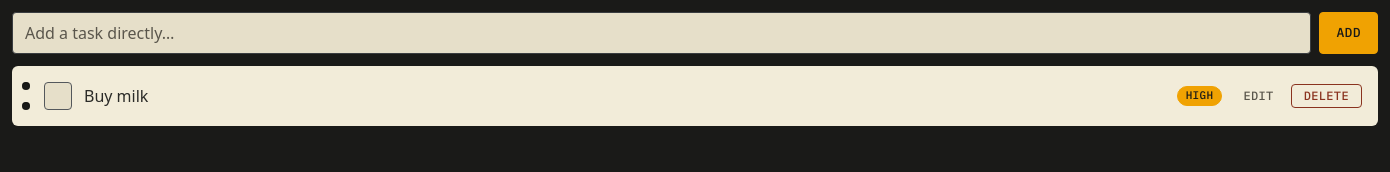
TaskList › shows a visible error when deletion fails
Expected: the text "Buy milk" is shown, top-left (84, 85), bottom-right (148, 107)
Click the button "Delete": {"x": 1326, "y": 96} top-left (1291, 84), bottom-right (1362, 108)
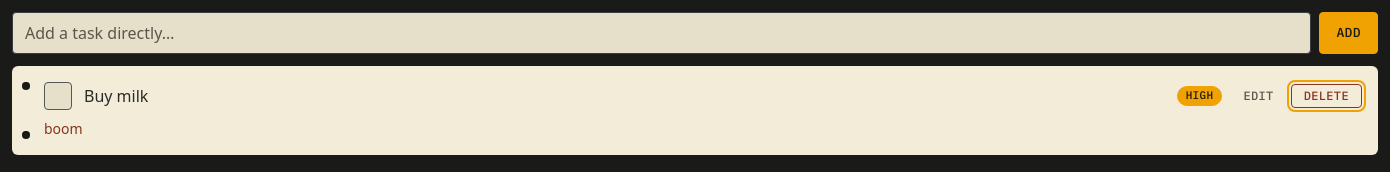
Result: the message reads "boom" at top-left (44, 119), bottom-right (83, 138)
